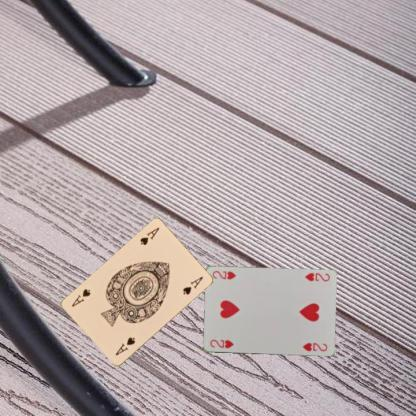2h: (208, 337, 235, 349), (302, 271, 331, 282)
As: (113, 335, 136, 357), (138, 224, 160, 247)
